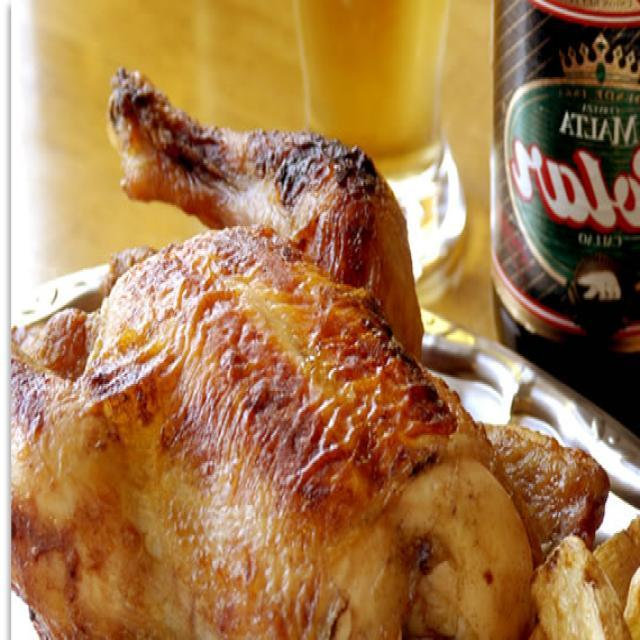Chicken: (0, 89, 500, 633)
